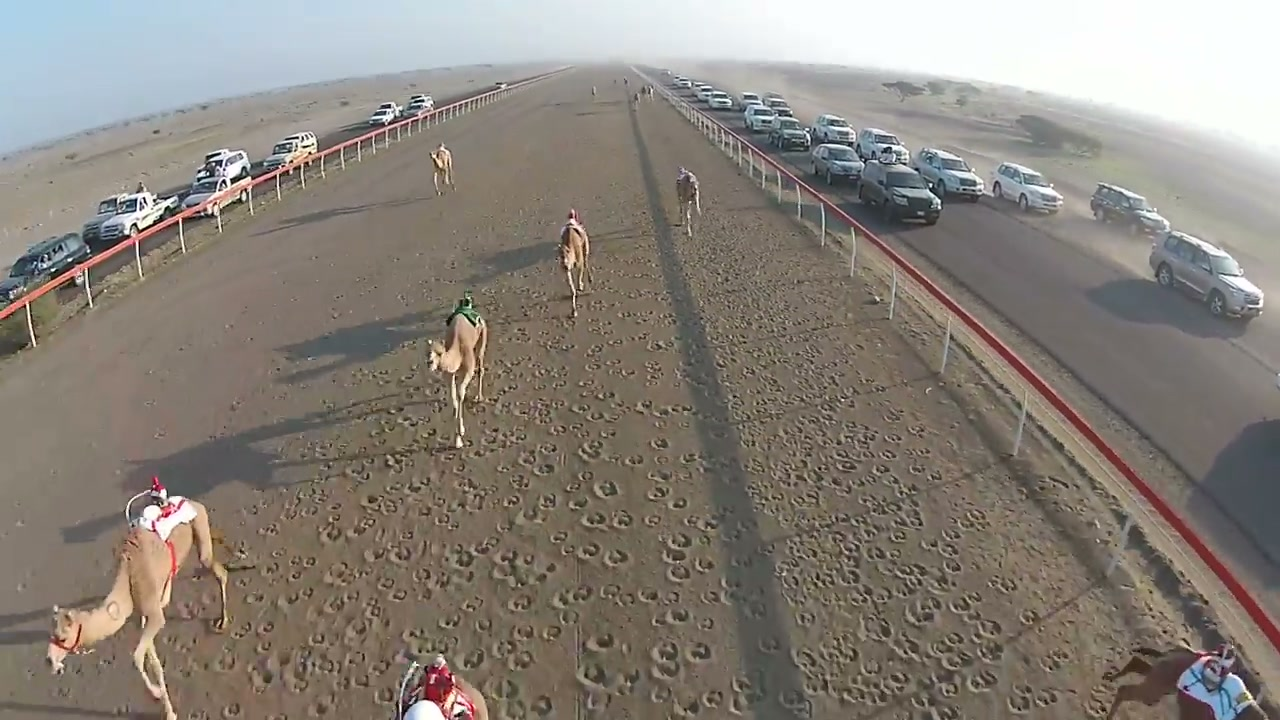animal_footprint: (473, 318, 742, 719), (255, 426, 462, 706)
